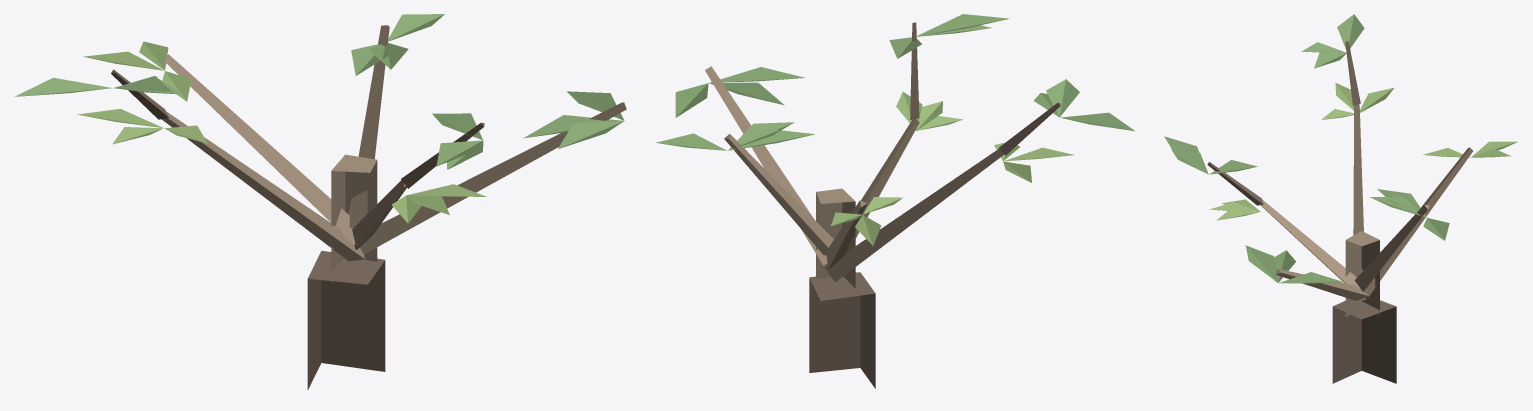
File: hua.mei@subadult__spring.glb
The picture shows the model from 3 angles, left to right: view 1: azimuth 30°, elevation 25°; view 2: azimuth 150°, elevation 25°; view 3: azimuth 270°, elevation 25°; orthographic projection. The views are drawn at different scales.
Parts seen in each view (by area): view 1: hua.mei@subadult__spring; view 2: hua.mei@subadult__spring; view 3: hua.mei@subadult__spring.
Boxes of the visible parts, bbox=[...] form: hua.mei@subadult__spring: bbox=[14, 14, 626, 390]; hua.mei@subadult__spring: bbox=[655, 14, 1134, 388]; hua.mei@subadult__spring: bbox=[1164, 14, 1517, 383].
Bounding box in the file's own units: 1.92 × 1.22 × 1.51.
